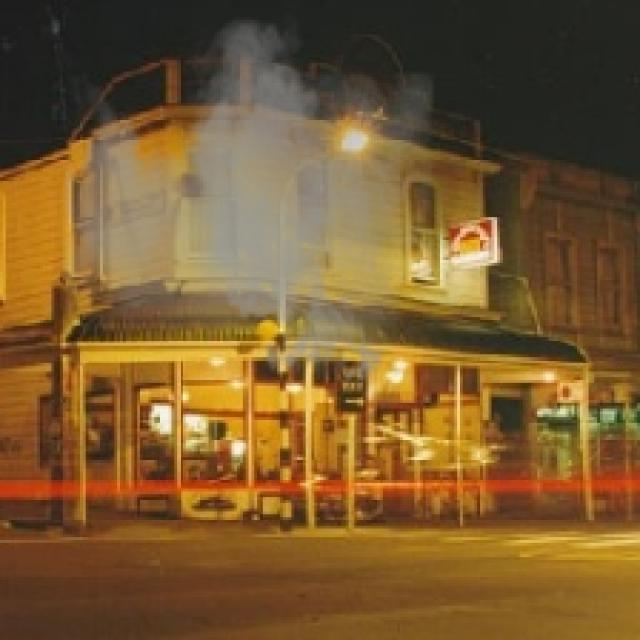smoke: (60, 3, 434, 397)
